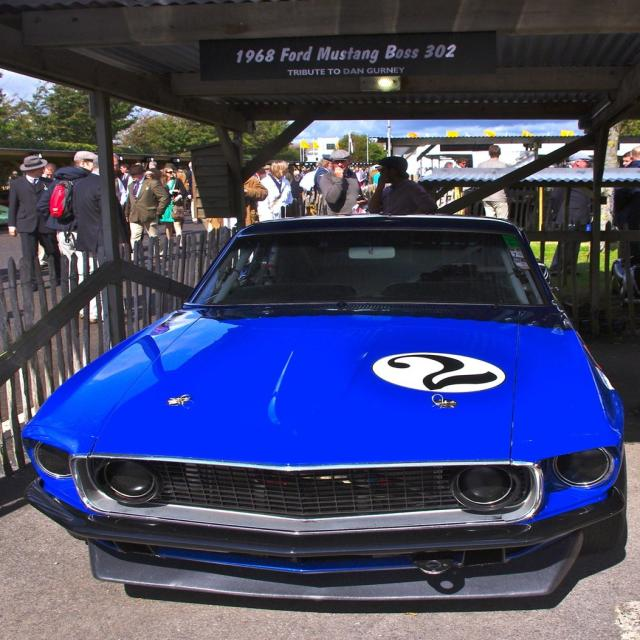car: (24, 213, 622, 599)
